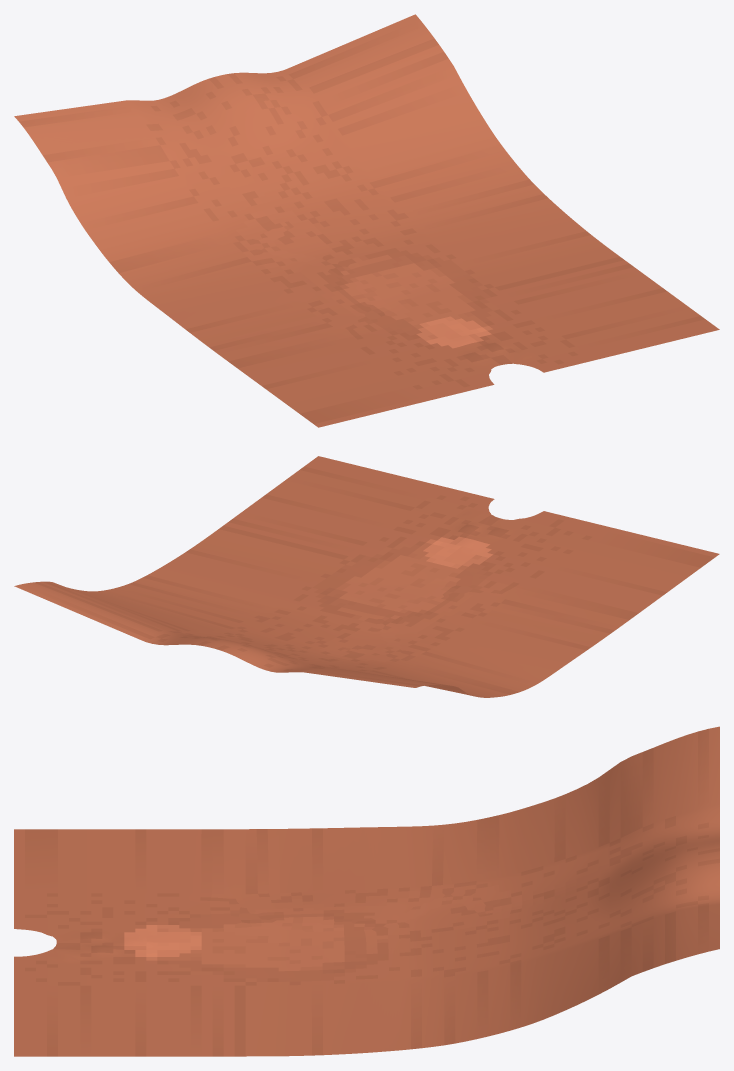
Rendered from SceneShoot_Brown.fbx.
3 renders of one model, top to bottom at view 1: azimuth 30°, elevation 25°; view 2: azimuth 150°, elevation 25°; view 3: azimuth 270°, elevation 25°, orthographic. The views are drawn at different scales.
Parts seen in each view (by area): view 1: Scene_Brown; view 2: Scene_Brown; view 3: Scene_Brown.
Part boxes in pixels (<box>): Scene_Brown: <box>14,14,719,427</box>; Scene_Brown: <box>14,456,719,697</box>; Scene_Brown: <box>14,726,719,1056</box>.
Size of the model in its own units: 16475 by 3640 by 21634.
